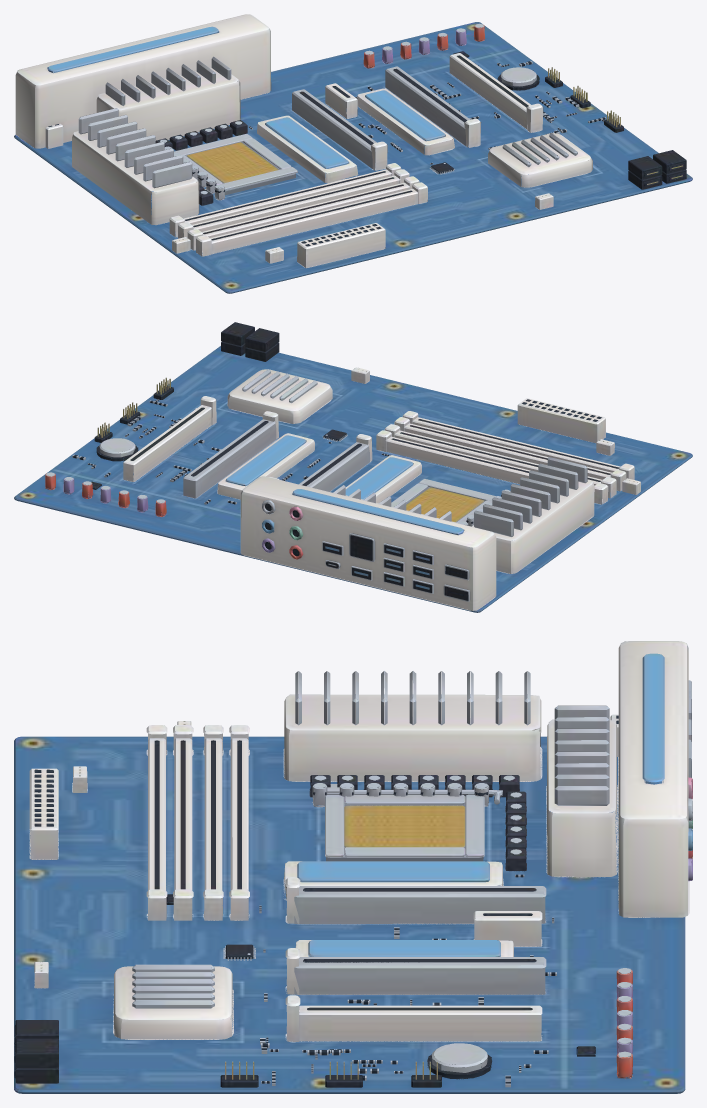
File: motherboard-light.glb
3 renders of one model, top to bottom at view 1: azimuth 30°, elevation 25°; view 2: azimuth 150°, elevation 25°; view 3: azimuth 270°, elevation 25°, orthographic. The views are drawn at different scales.
Visible parts, largest first — view 1: motherboard_body; view 2: motherboard_body; view 3: motherboard_body.
Part boxes in pixels (<box>): motherboard_body: <box>14,14,692,293</box>; motherboard_body: <box>14,322,692,612</box>; motherboard_body: <box>14,641,692,1093</box>.
Bounding box in the file's own units: 0.305 × 0.043 × 0.2467.
Materials: 1 (1 with a texture image).
